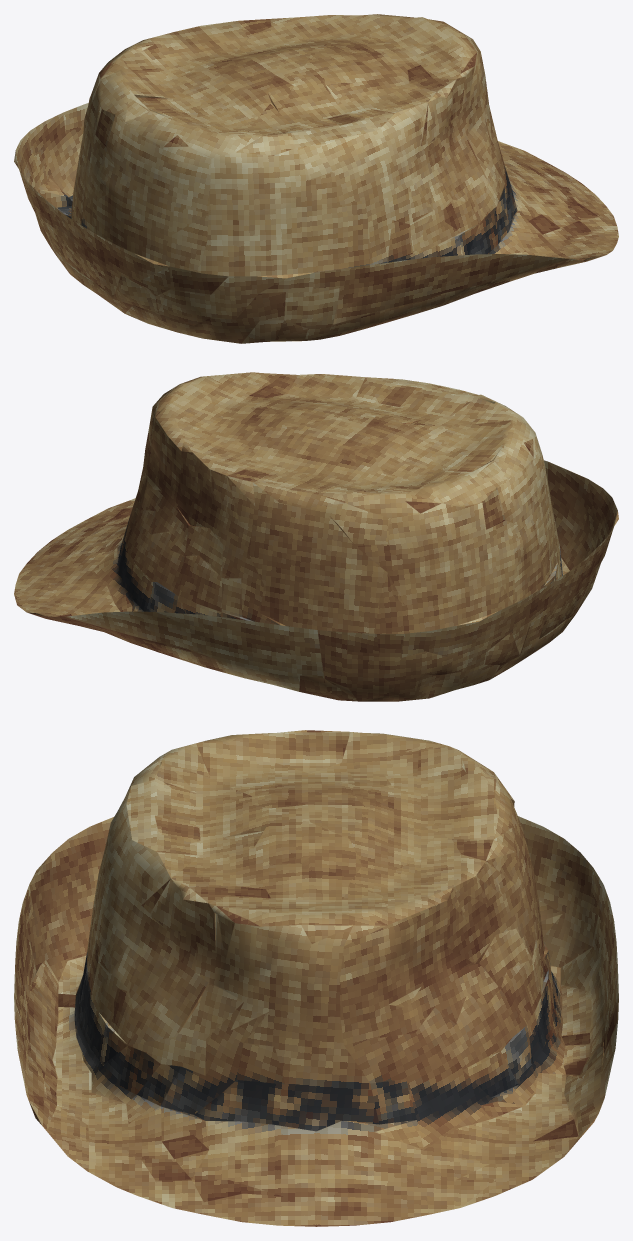
File: wear_fedora.glb
3 views of the same model, one above another, from view 1: azimuth 30°, elevation 25°; view 2: azimuth 150°, elevation 25°; view 3: azimuth 270°, elevation 25° (orthographic). The views are drawn at different scales.
Parts seen in each view (by area): view 1: mesh; view 2: mesh; view 3: mesh.
Part boxes in pixels (bbox=[...]): mesh: bbox=[14, 14, 618, 343]; mesh: bbox=[14, 372, 618, 701]; mesh: bbox=[14, 730, 618, 1226].
Size of the model in its own units: 0.3764 by 0.13 by 0.3038.
Materials: 1 (1 with a texture image).
